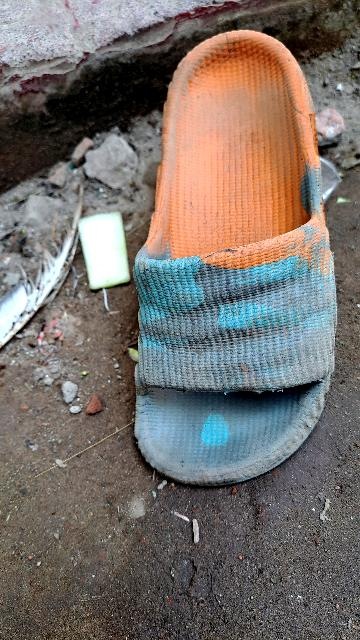sandal: (105, 33, 338, 500)
